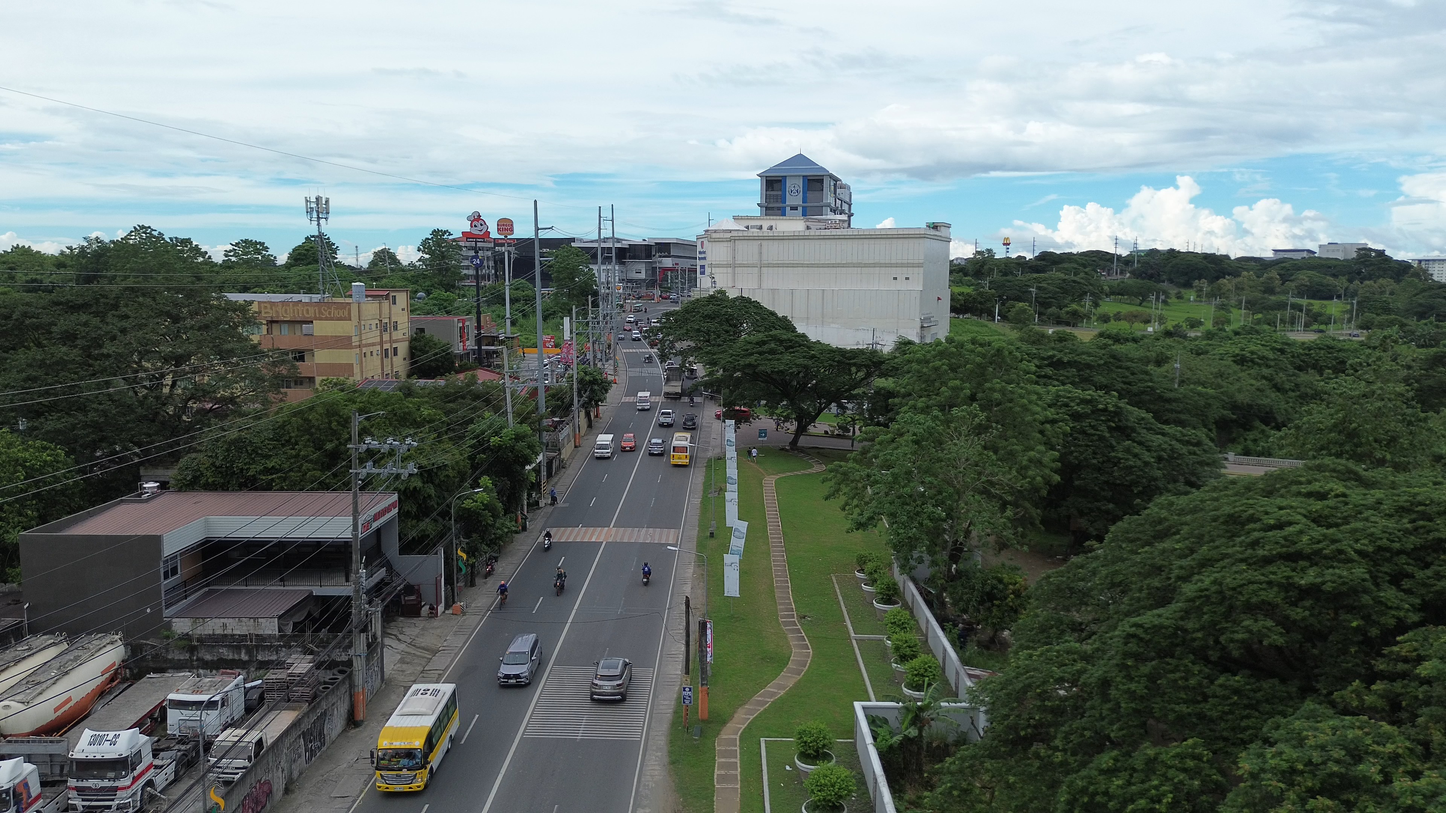bus: (670, 433, 691, 466)
car: (590, 658, 631, 701), (728, 407, 750, 421), (642, 354, 652, 363)
motorcycle: (484, 556, 496, 577), (554, 577, 565, 595), (543, 531, 552, 551), (642, 573, 650, 586)
vehicle: (0, 633, 125, 737), (68, 728, 197, 813), (372, 684, 458, 791), (207, 703, 305, 784), (167, 670, 244, 738), (0, 634, 69, 694), (0, 758, 68, 813), (497, 634, 540, 685), (663, 362, 683, 399), (715, 407, 750, 422), (593, 435, 615, 458), (647, 438, 665, 455), (620, 433, 636, 452), (636, 391, 651, 411), (657, 409, 674, 426), (681, 413, 697, 429), (543, 530, 553, 551), (625, 315, 636, 327), (631, 330, 642, 341), (642, 354, 652, 363)
